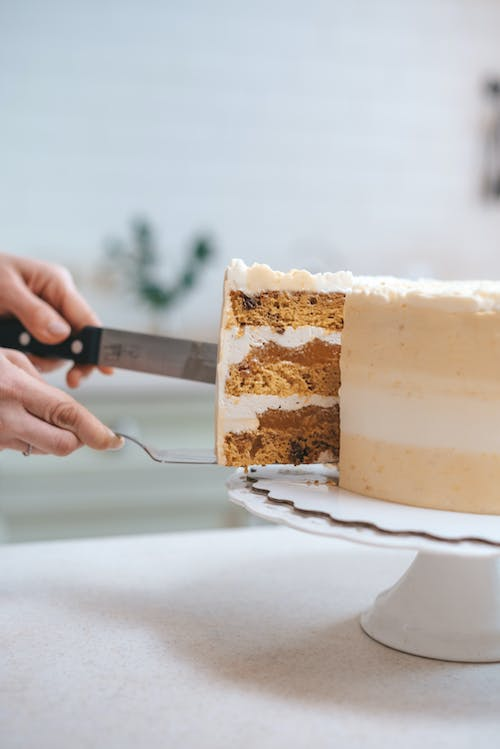knife: (0, 311, 223, 385)
